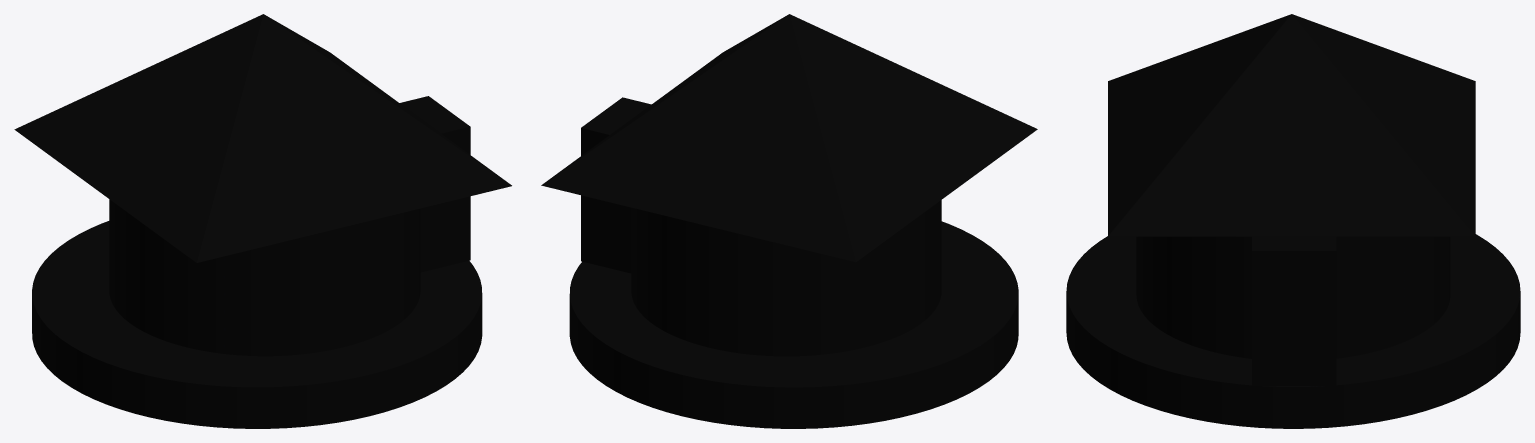
The model's file is Weird House Thing.fbx.
The picture shows the model from 3 angles, left to right: view 1: azimuth 30°, elevation 25°; view 2: azimuth 150°, elevation 25°; view 3: azimuth 270°, elevation 25°; orthographic projection.
Visible parts, largest first — view 1: root (×4); view 2: root (×4); view 3: root (×4).
Boxes of the visible parts, x1=… form: root (×4): x1=14, y1=14, x2=511, y2=428; root (×4): x1=541, y1=14, x2=1037, y2=428; root (×4): x1=1066, y1=14, x2=1520, y2=428.
Size of the model in its own units: 2.52 by 1.97 by 2.52.
Materials: 4 (4 with a texture image).
